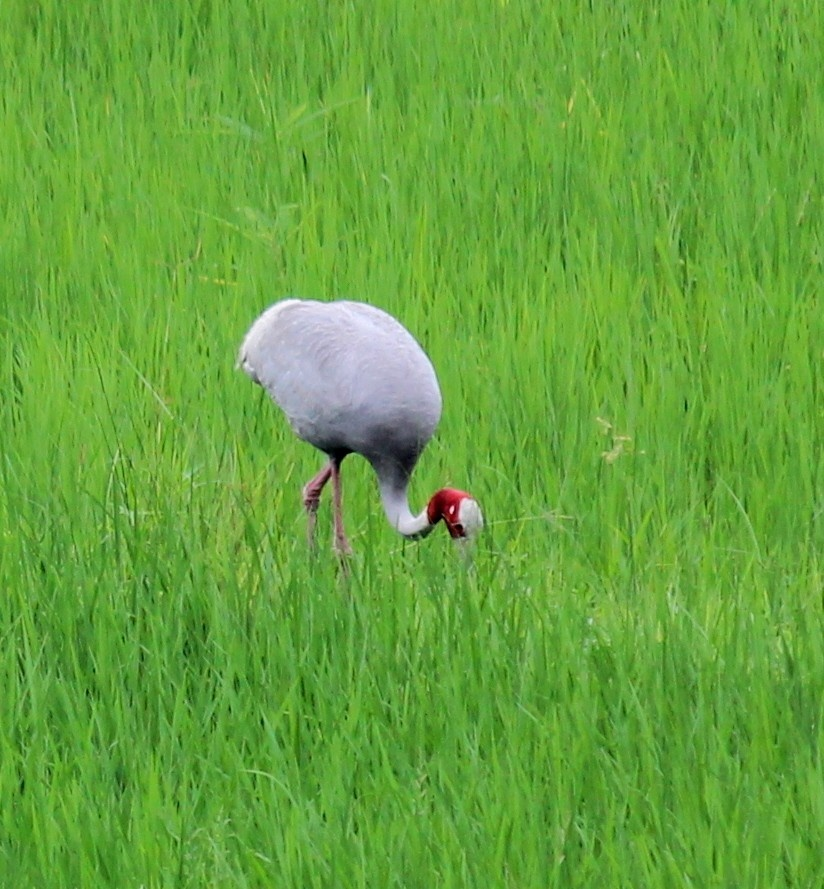crane: (237, 285, 500, 594)
